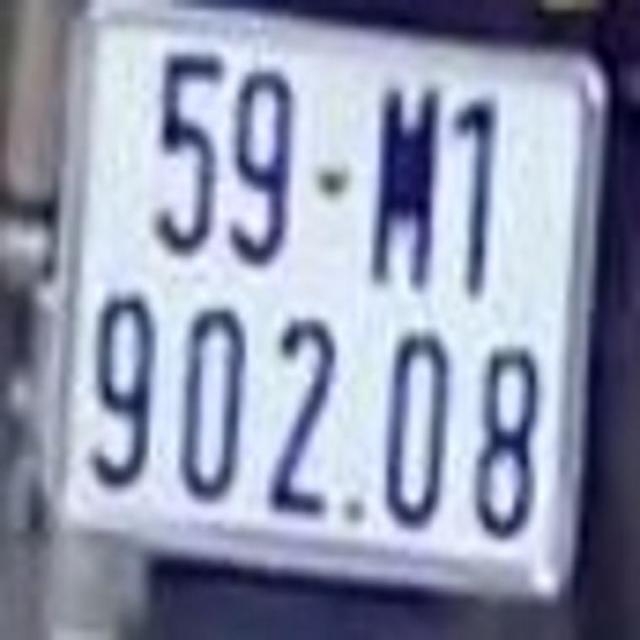0: (171, 298, 248, 497), (379, 322, 447, 524)
1: (452, 91, 503, 296)
2: (264, 308, 332, 514)
5: (150, 46, 224, 250)
8: (468, 332, 548, 542)
9: (228, 61, 301, 264), (88, 290, 158, 482)
M: (363, 78, 445, 292)
